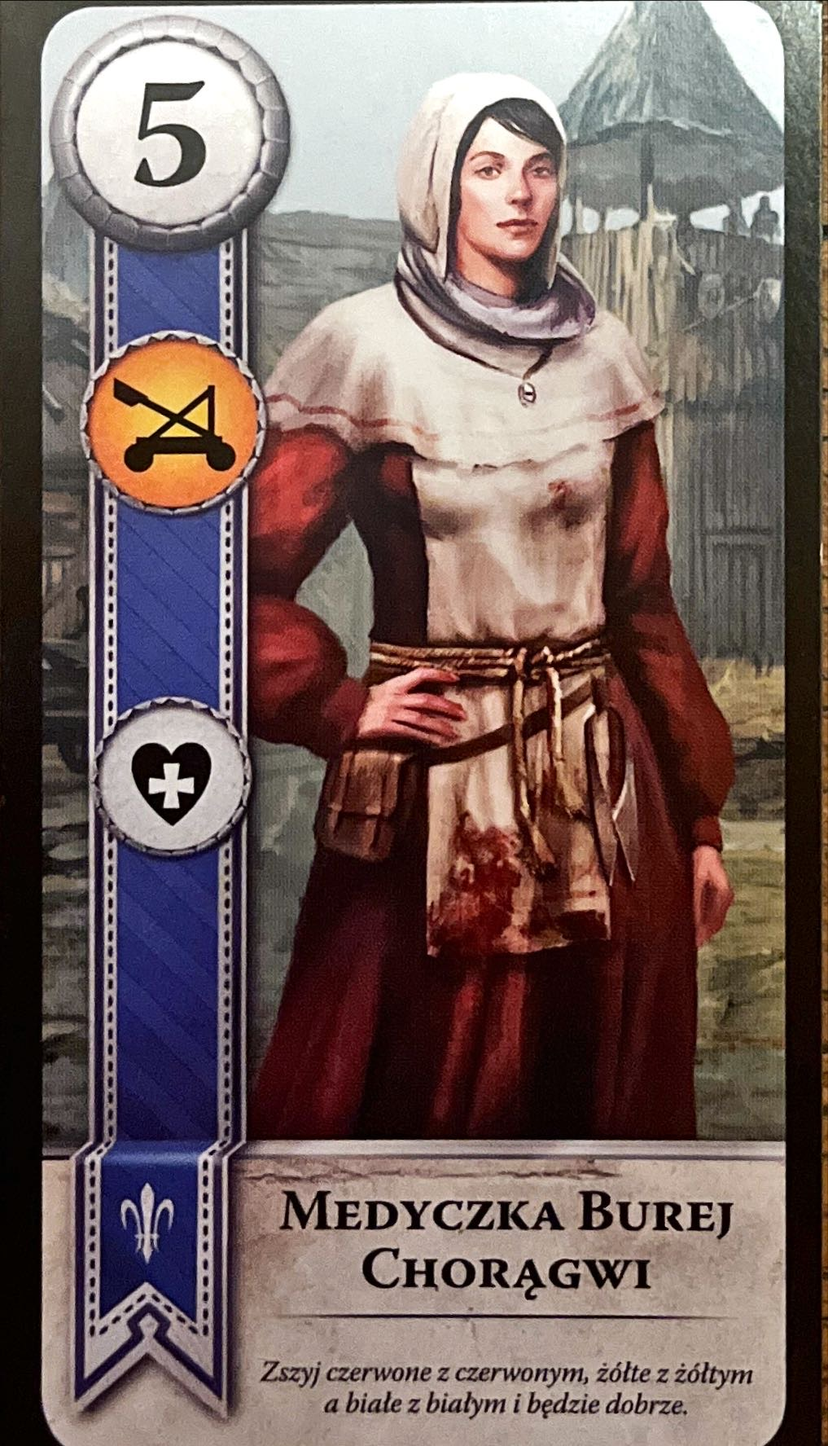5: (51, 13, 294, 253)
katapulta: (78, 329, 267, 515)
zmartwychwstanie: (93, 692, 252, 859)
